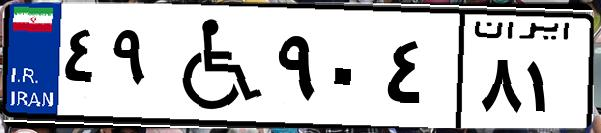0: (330, 28, 385, 110)
1: (525, 38, 570, 115)
4: (385, 28, 445, 110), (57, 26, 110, 100)
8: (475, 38, 525, 113)
9: (270, 28, 330, 110), (110, 28, 158, 98)
ژ (معلولین و جانبازان): (158, 12, 270, 120)
